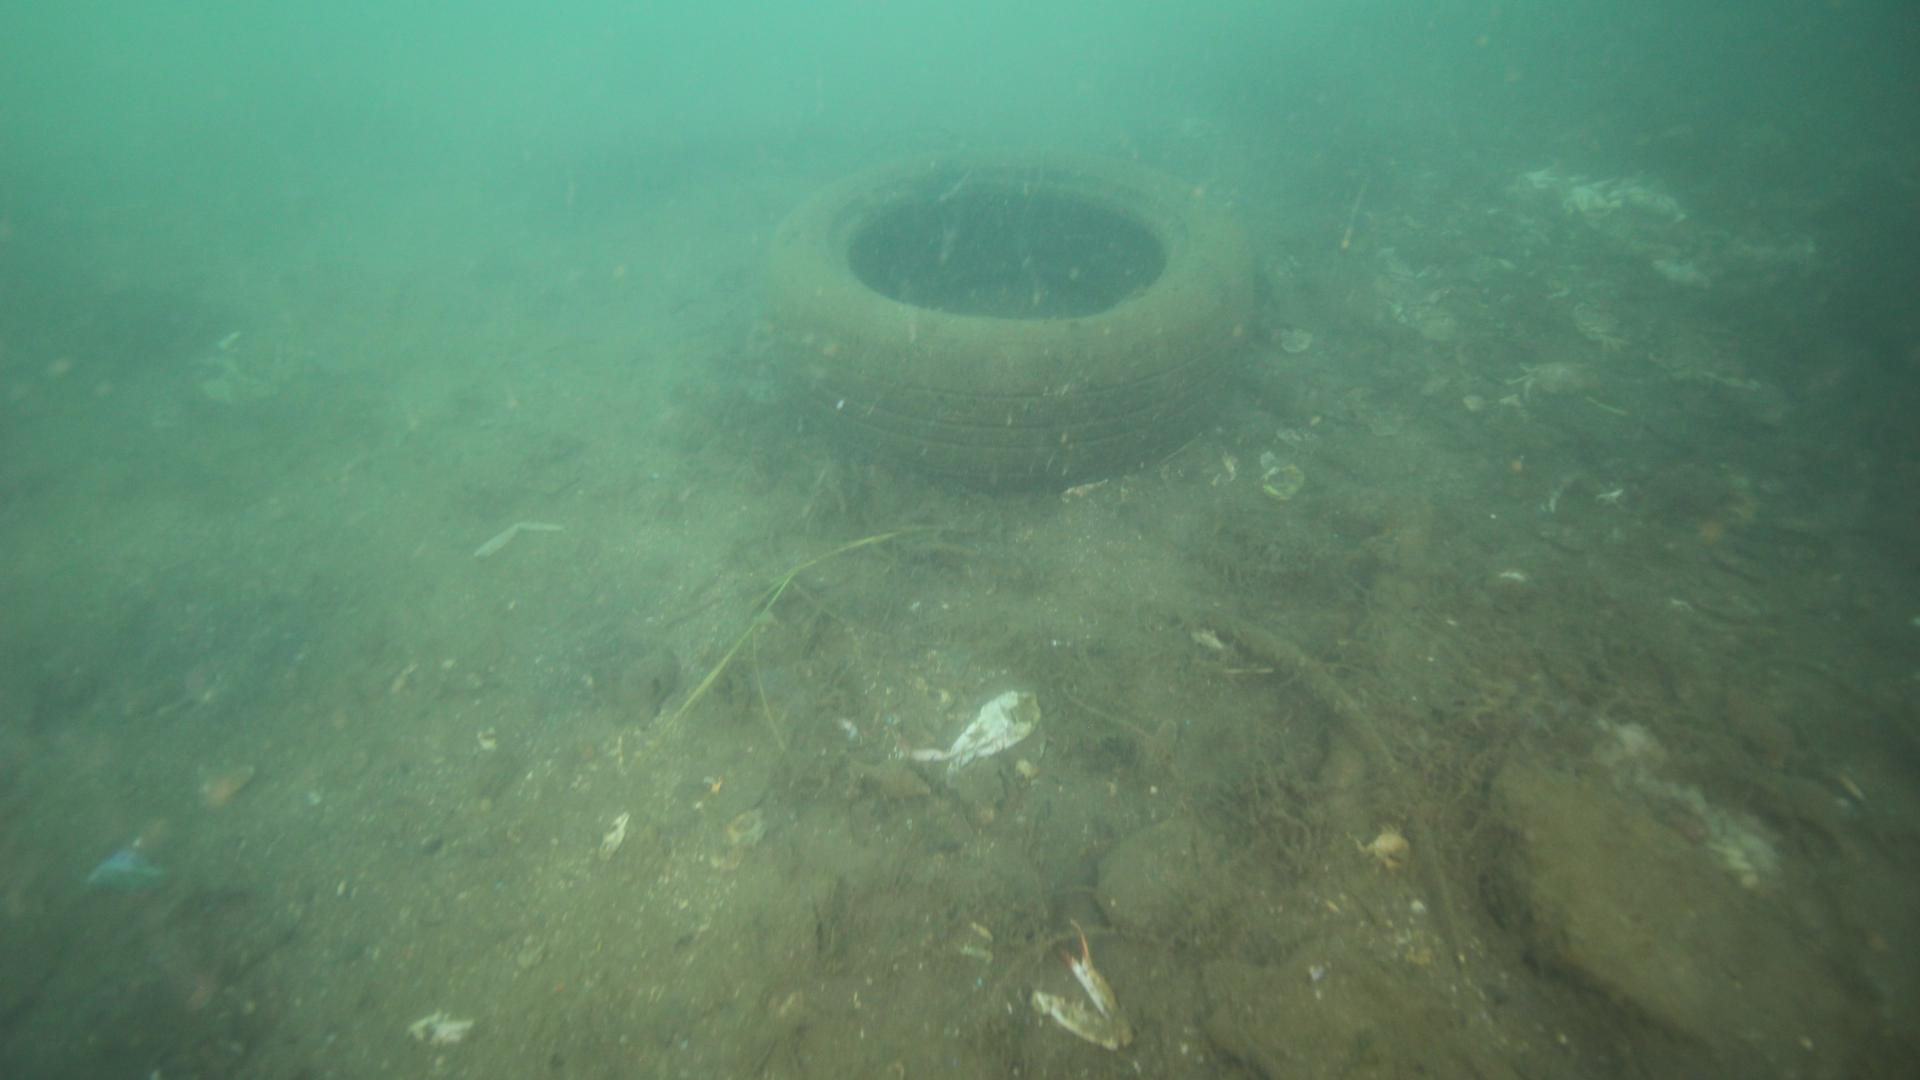tire: (756, 153, 1247, 495)
